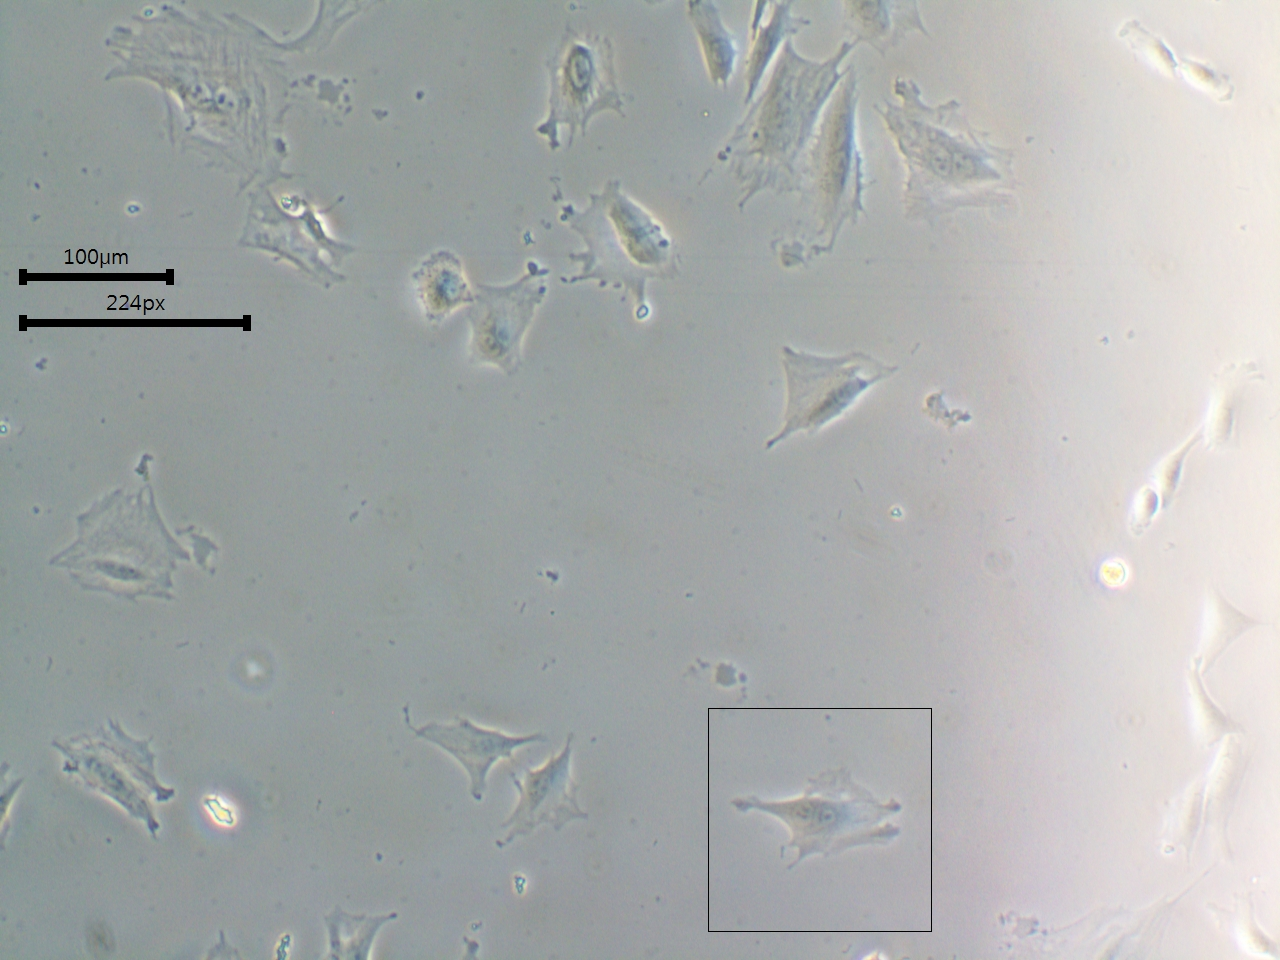dividing: (91, 1, 364, 192), (869, 71, 1047, 235), (727, 768, 910, 875)
medium-polygonal: (753, 334, 911, 457), (404, 695, 554, 811), (495, 724, 603, 872)
medium-spread: (41, 475, 208, 616), (559, 177, 697, 319), (46, 703, 173, 843), (224, 178, 375, 295), (533, 24, 637, 172)
small-polygonal: (468, 267, 558, 387), (684, 1, 739, 87)
small-spread: (409, 239, 474, 326)
